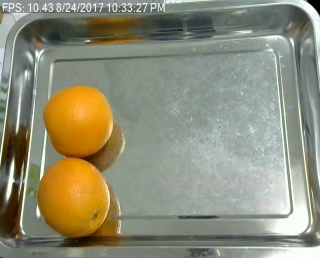Orange: (37, 157, 111, 235), (43, 83, 113, 157)
